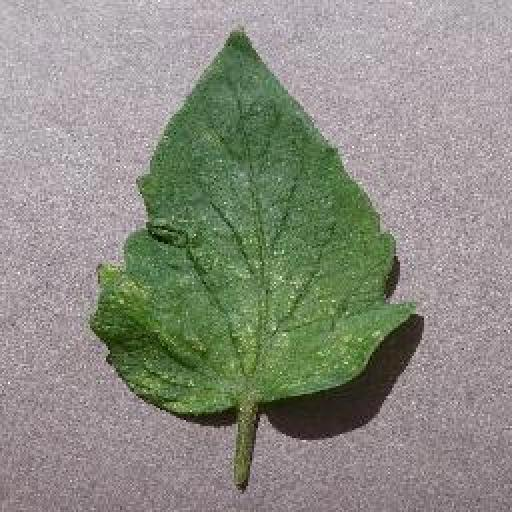disease_tomato: (92, 30, 420, 416)
